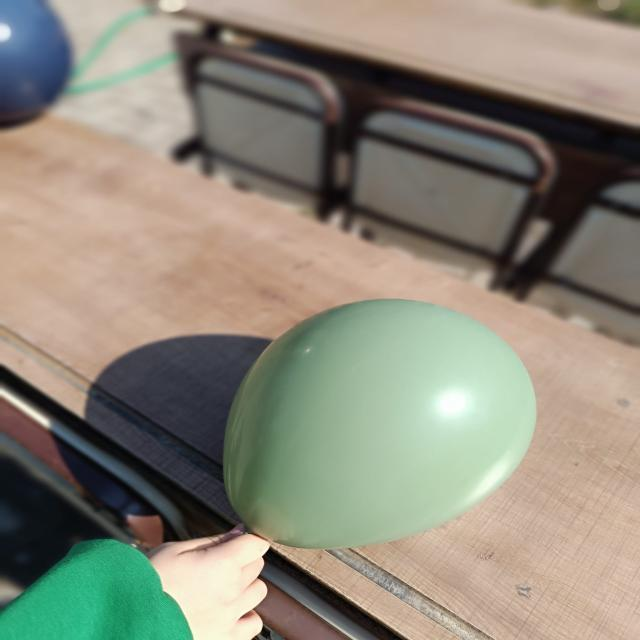balloon: (221, 298, 534, 538)
